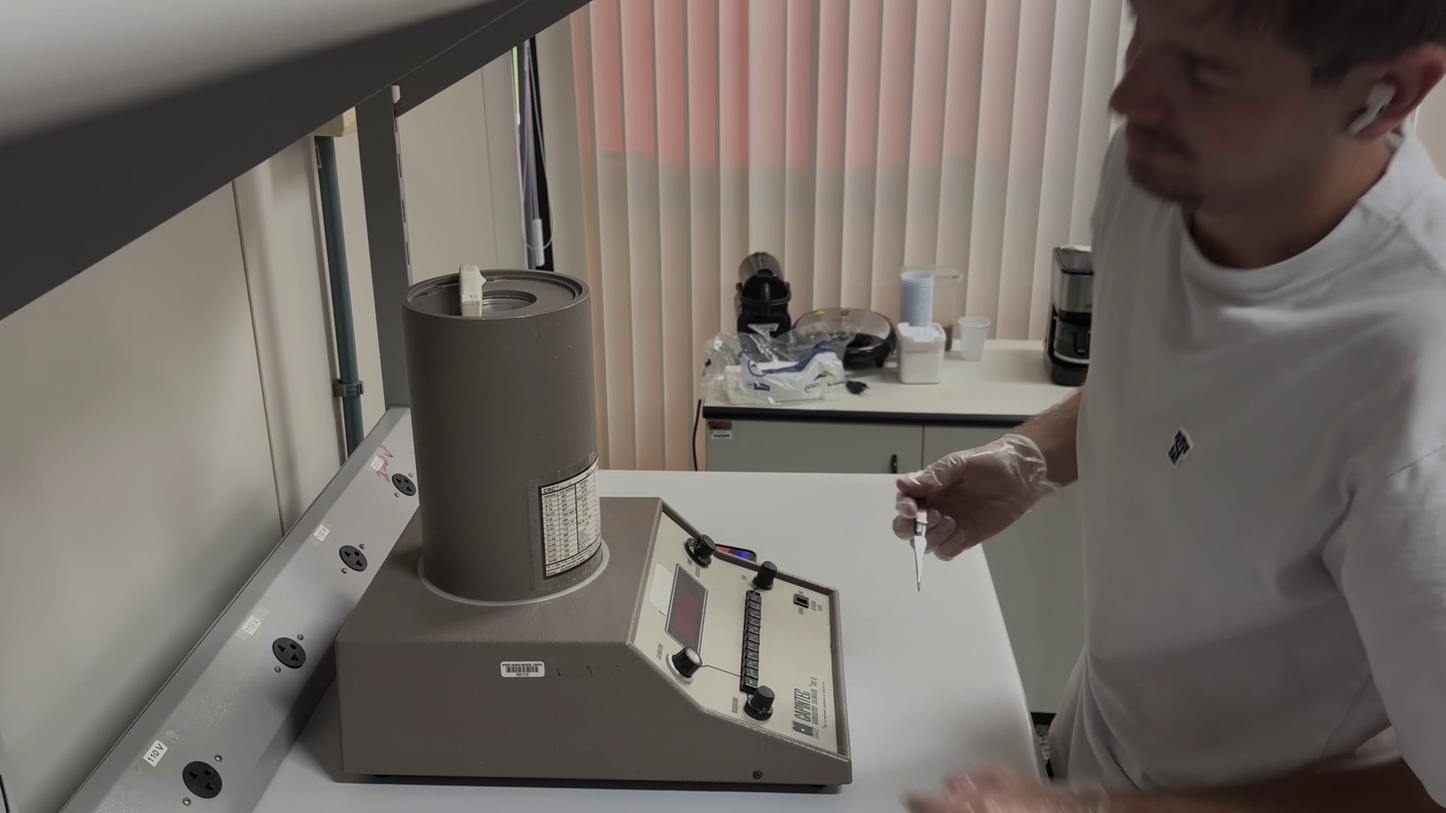Ativimetro: (398, 267, 609, 606)
Com_Luva: (891, 431, 1064, 562), (897, 760, 1115, 813)
